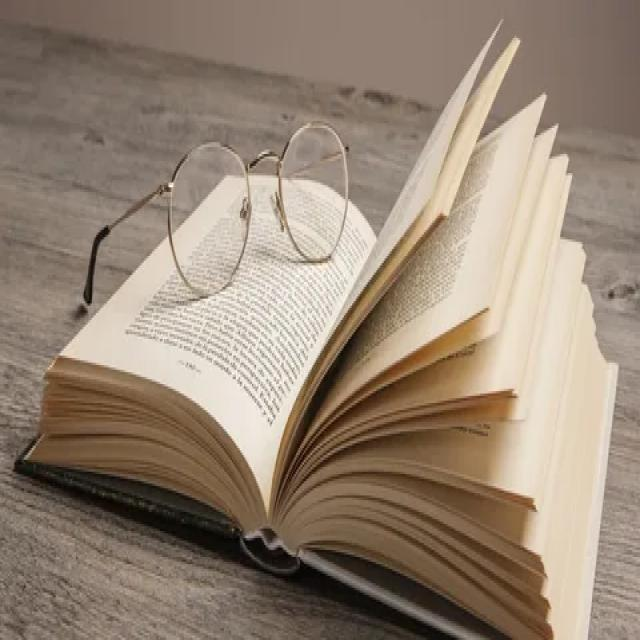book: (15, 23, 624, 640)
